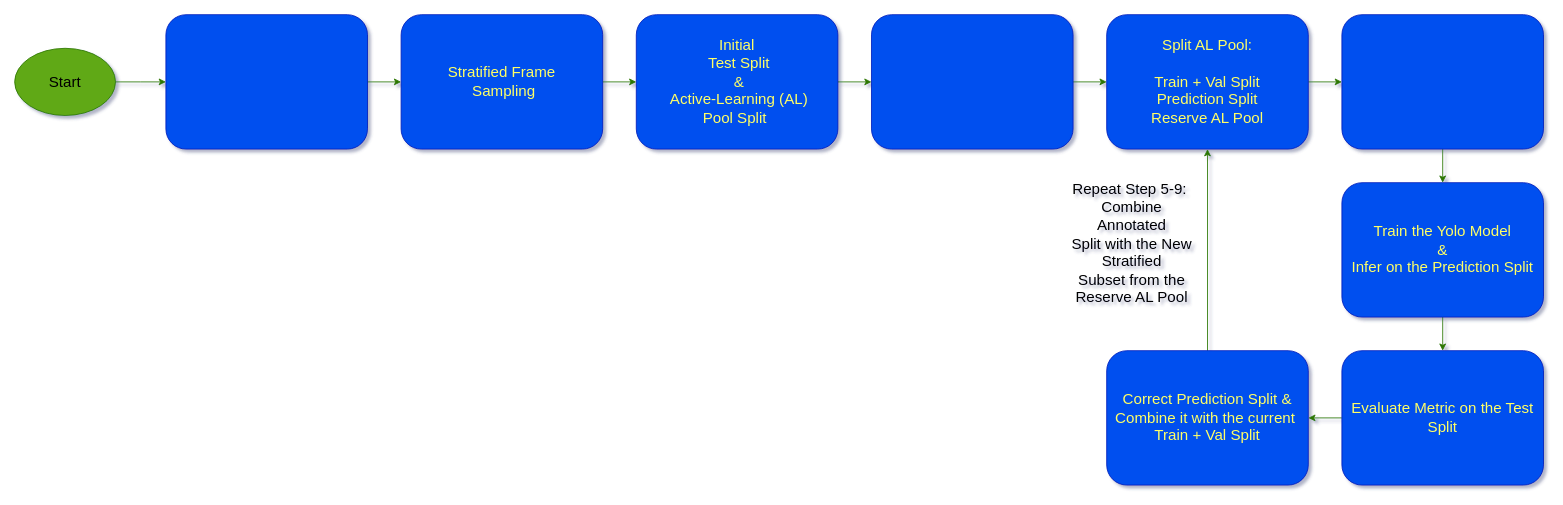
This 1563x505 diagram has some shape labels left out. The centre of each missing label's shape, as x and y in pixels:
Manually Annotate the Unlabelled Train + Val Split Frames: the point at 1442,81
Pre-Processing: the point at 266,81
Test Split Manual Annotation: the point at 972,81
